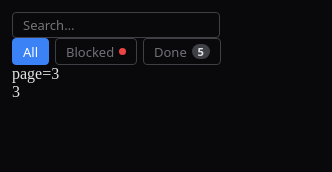
Scenario: FilterBar › writes the status filter to the URL and resets the page
Click the button "Blocked" at (96, 52), box left=55, top=38, right=137, bottom=65
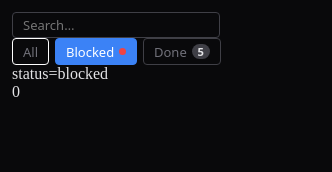
Expected: the text with test id "query" reads "status=blocked", left=12, top=65, right=108, bottom=82
Expected: the text with test id "page" reads "0", left=12, top=83, right=20, bottom=100
